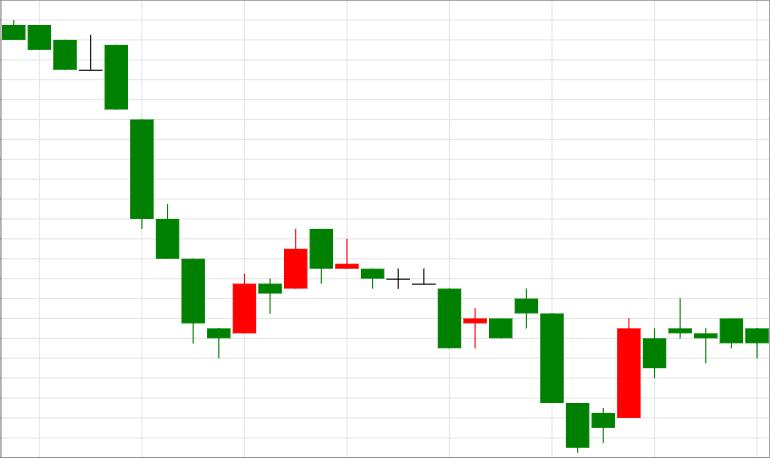morning_star_rise: (2, 20, 256, 359)
